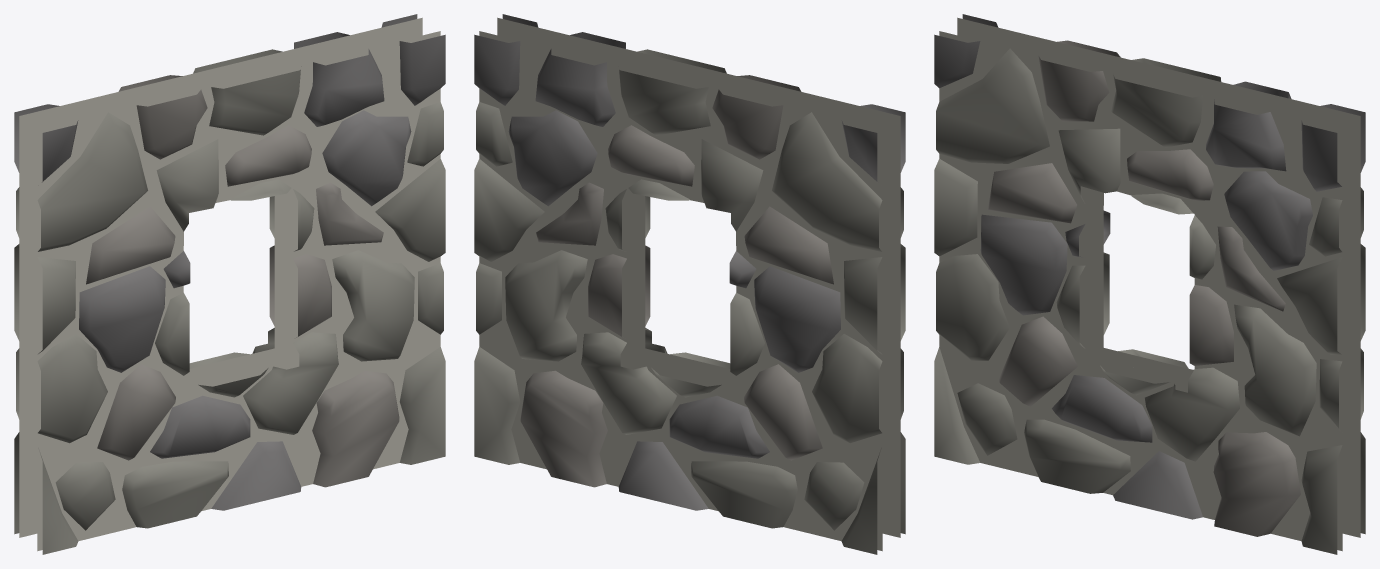
Rendered from rpgpp_ag_wall_04_3x3_window_04a.fbx.
The picture shows the model from 3 angles, left to right: view 1: azimuth 30°, elevation 25°; view 2: azimuth 150°, elevation 25°; view 3: azimuth 330°, elevation 25°; orthographic projection.
Parts seen in each view (by area): view 1: rpgpp_ag_wall_04_3x3_window_04a; view 2: rpgpp_ag_wall_04_3x3_window_04a; view 3: rpgpp_ag_wall_04_3x3_window_04a.
Boxes of the visible parts, x1,y1,x2,y2 form: rpgpp_ag_wall_04_3x3_window_04a: [14, 14, 445, 554]; rpgpp_ag_wall_04_3x3_window_04a: [474, 14, 905, 554]; rpgpp_ag_wall_04_3x3_window_04a: [934, 14, 1365, 554].
Bounding box in the file's own units: 3 × 3 × 0.404.
